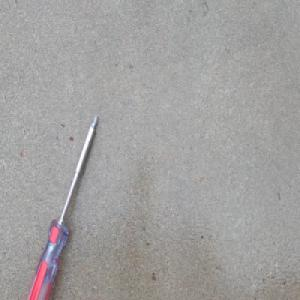Screwdriver: (24, 112, 99, 299)
